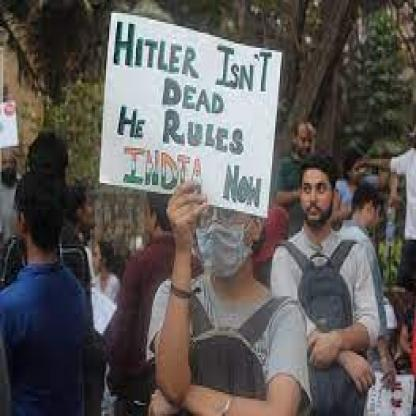BANNER: (98, 13, 285, 218)
